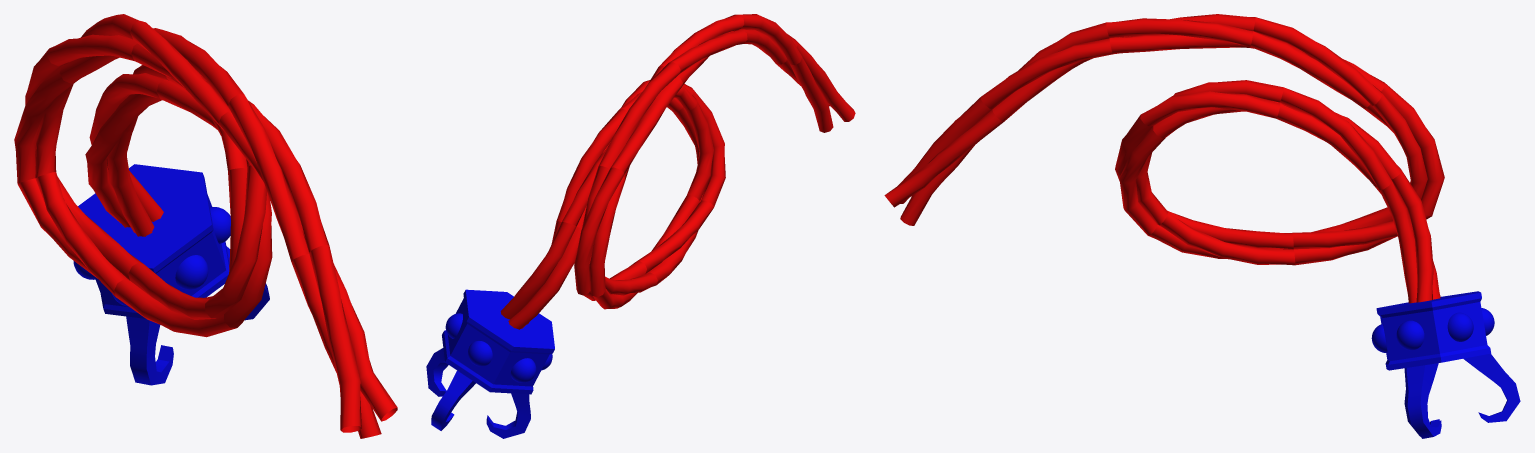
Rendered from GrappleHook.fbx.
3 views of the same model, side by side, from view 1: azimuth 30°, elevation 25°; view 2: azimuth 150°, elevation 25°; view 3: azimuth 270°, elevation 25° (orthographic). The views are drawn at different scales.
Parts seen in each view (by area): view 1: GrappleHook1; view 2: GrappleHook1; view 3: GrappleHook1.
Boxes of the visible parts, x1=… form: GrappleHook1: x1=14, y1=14, x2=397, y2=438; GrappleHook1: x1=426, y1=14, x2=855, y2=438; GrappleHook1: x1=884, y1=14, x2=1520, y2=438.
Bounding box in the file's own units: 0.3799 × 0.6617 × 1.03.
